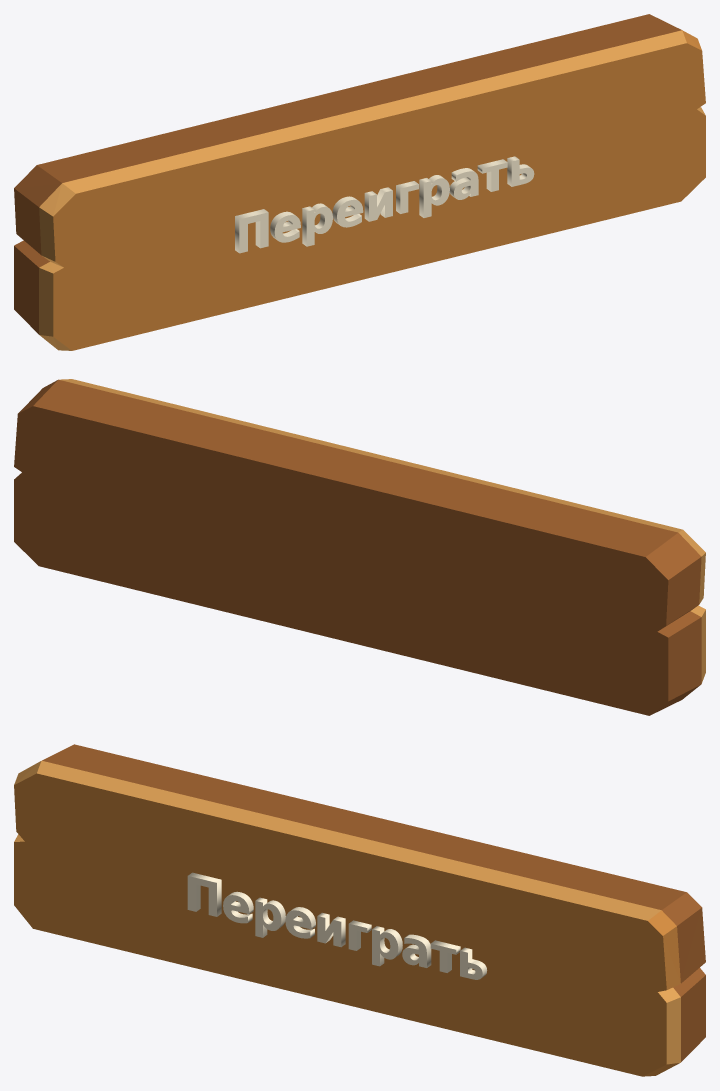
Rendered from Retake.fbx.
3 renders of one model, top to bottom at view 1: azimuth 30°, elevation 25°; view 2: azimuth 150°, elevation 25°; view 3: azimuth 330°, elevation 25°, orthographic.
Visible parts, largest first — view 1: Stone.010, Label.002; view 2: Stone.010; view 3: Stone.010, Label.002.
Part boxes in pixels (box(x1,y1,x2,y2)): Stone.010: box(14, 14, 705, 350); Label.002: box(235, 156, 534, 253); Stone.010: box(14, 379, 705, 715); Stone.010: box(14, 744, 705, 1076); Label.002: box(187, 872, 487, 979).
Size of the model in its own units: 0.289 by 0.07 by 0.0337.
